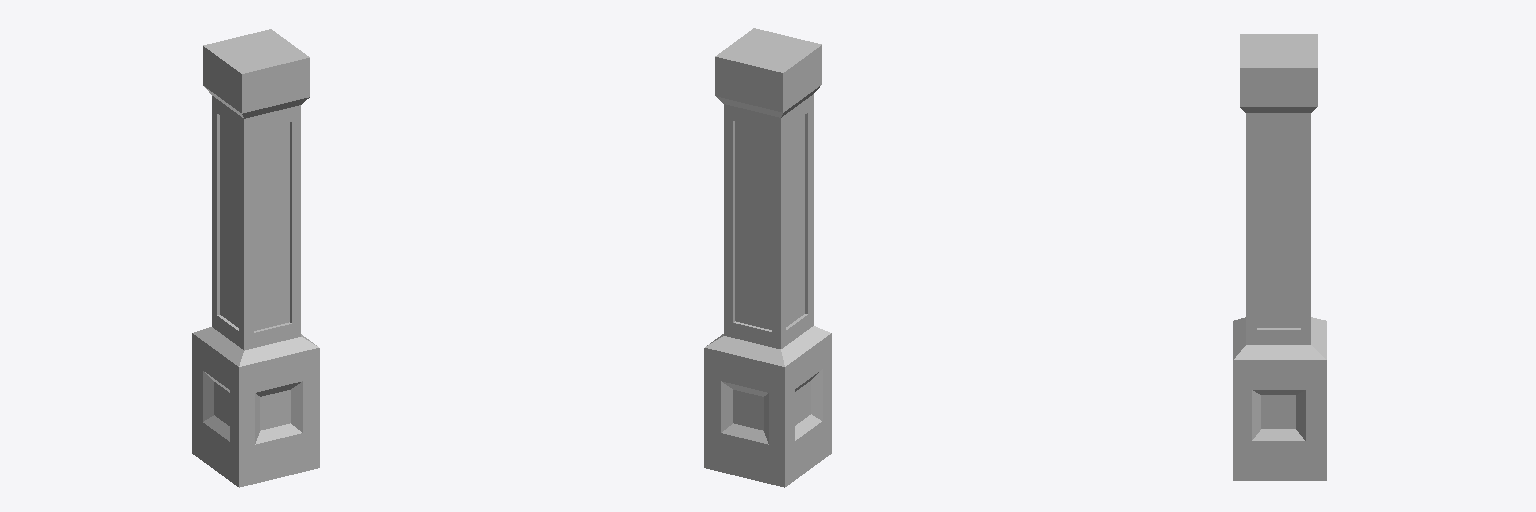
File: pillar.obj
3 views of the same model, side by side, from view 1: azimuth 30°, elevation 25°; view 2: azimuth 150°, elevation 25°; view 3: azimuth 270°, elevation 25° (orthographic).
Visible parts, largest first — view 1: Sand_Pillar; view 2: Sand_Pillar; view 3: Sand_Pillar.
Boxes of the visible parts, x1,y1,x2,y2 form: Sand_Pillar: [192, 29, 319, 487]; Sand_Pillar: [704, 28, 831, 487]; Sand_Pillar: [1233, 34, 1326, 480].
Bounding box in the file's own units: 248 × 1207 × 248.